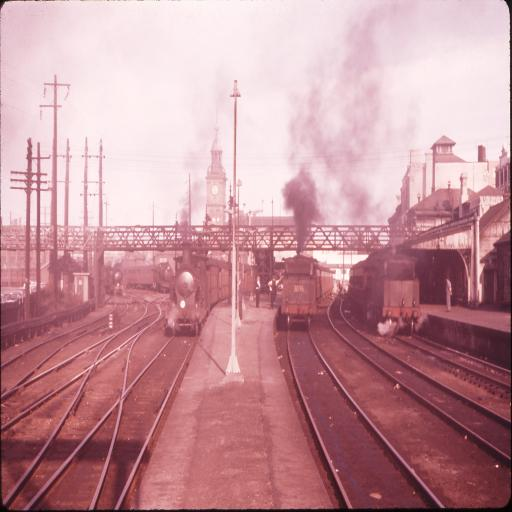platform_edge: (124, 348, 199, 512)
